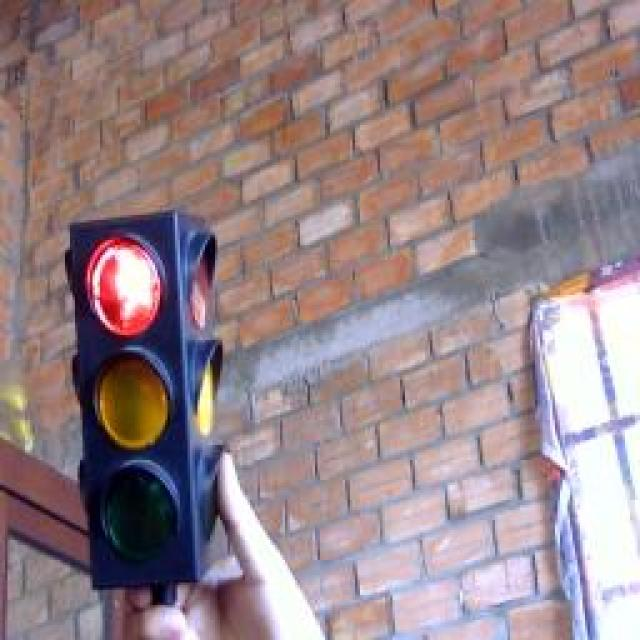-: (83, 226, 171, 344)
